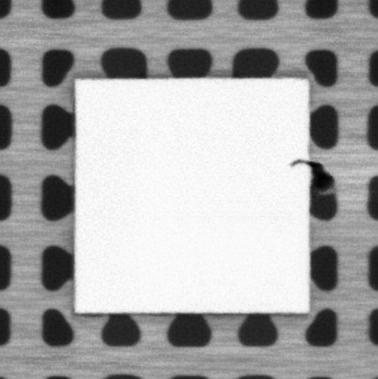DIE_INK: (289, 158, 310, 166)
